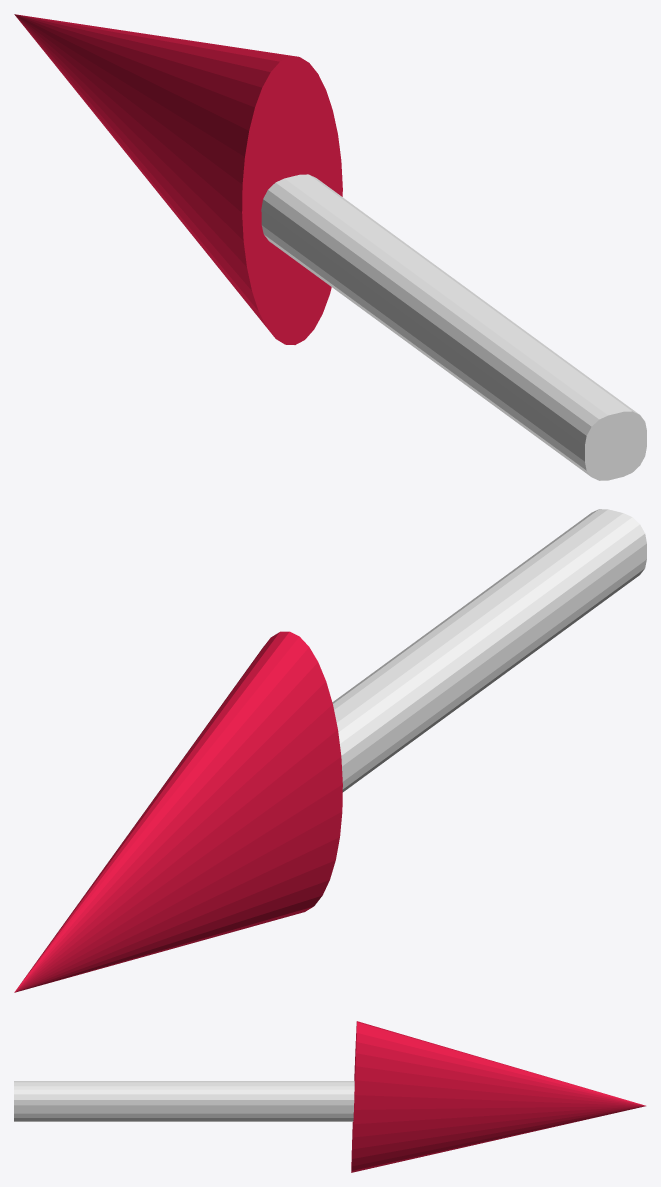
File: AAL.fbx
3 views of the same model, one above another, from view 1: azimuth 30°, elevation 25°; view 2: azimuth 150°, elevation 25°; view 3: azimuth 270°, elevation 25° (orthographic). The views are drawn at different scales.
Visible parts, largest first — view 1: 원뿔, Cube; view 2: 원뿔, Cube; view 3: 원뿔, Cube.
Part boxes in pixels (left/top/right/bottom): 원뿔: left=14, top=14, right=342, bottom=344; Cube: left=261, top=174, right=646, bottom=480; 원뿔: left=14, top=631, right=342, bottom=992; Cube: left=332, top=509, right=646, bottom=792; 원뿔: left=351, top=1021, right=645, bottom=1172; Cube: left=14, top=1081, right=354, bottom=1121.
Size of the model in its own units: 200 by 540 by 2070.
